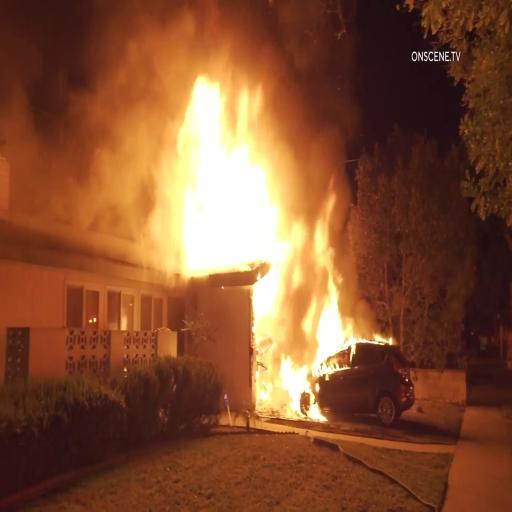fire: (259, 190, 348, 419), (184, 66, 282, 267)
smoke: (4, 4, 169, 242), (0, 0, 335, 56)
